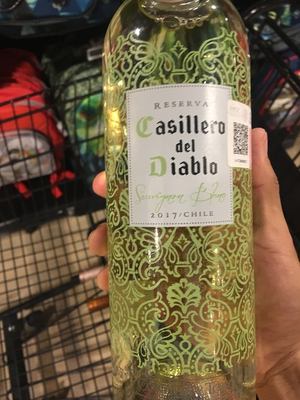casillero del diablo sauvignon blanc: (99, 6, 264, 390)
